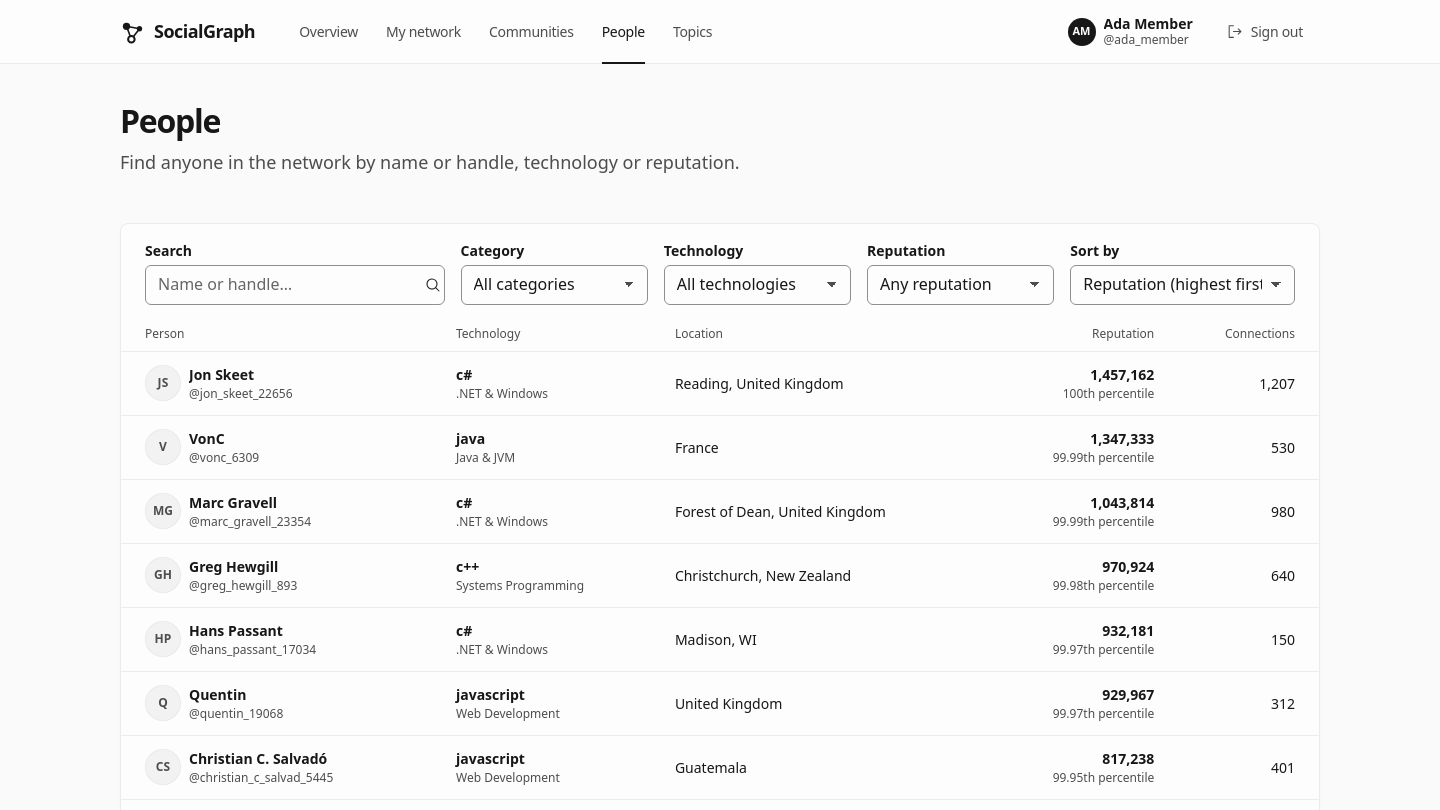
Test: People › suggests clearing filters when nothing matches
Expected: the heading "People" is shown, [120,99,220,142]
Type "zzzz" into the search field labelled "Search".
click(295, 285); type("zzzz")  # box [145,265,445,305]
Then press Enter
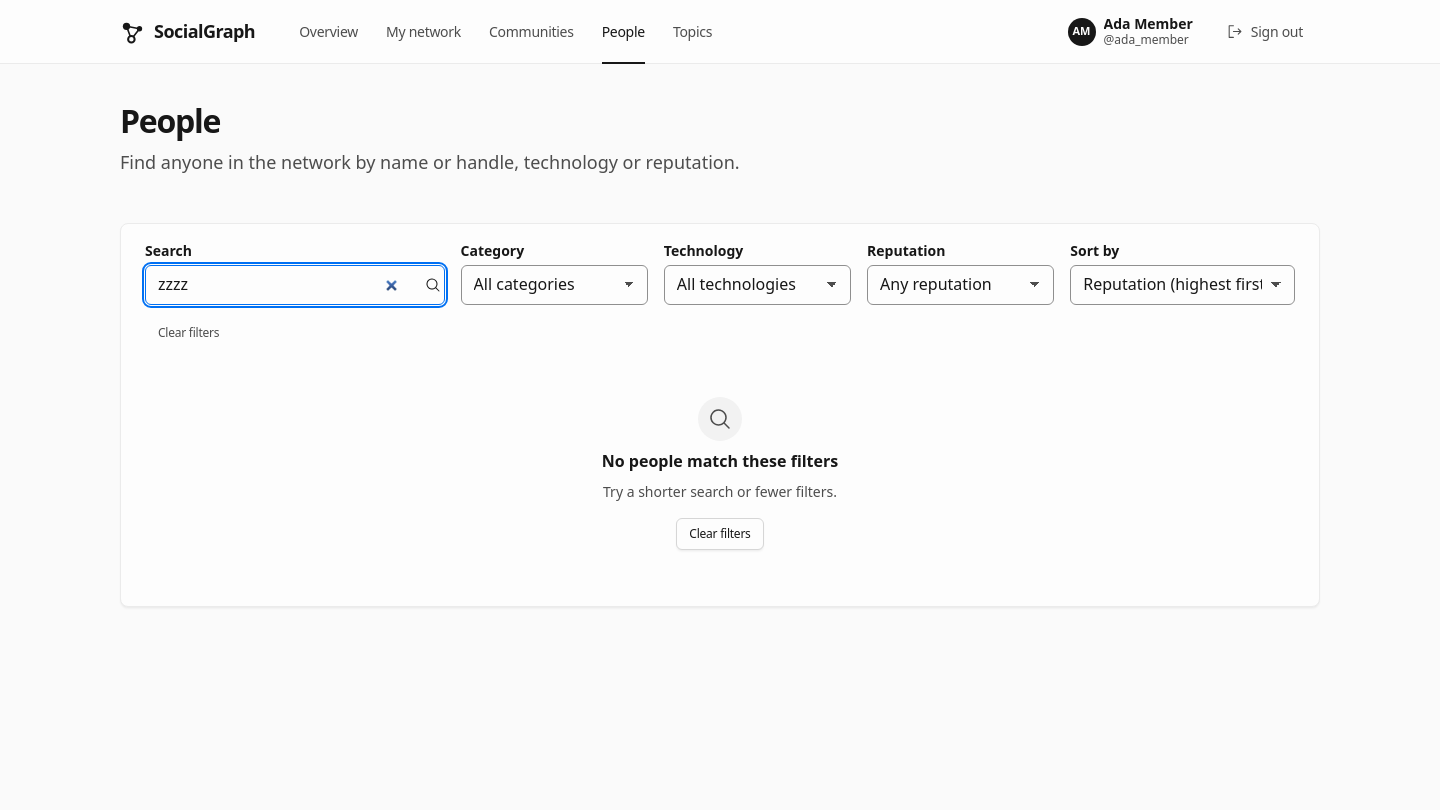
Now the text "No people match these filters" is shown, box [602,449,838,473]
Click the button "Clear filters" below "Try a shorter search or fewer filters.".
click(720, 534)  # box [676,518,764,550]
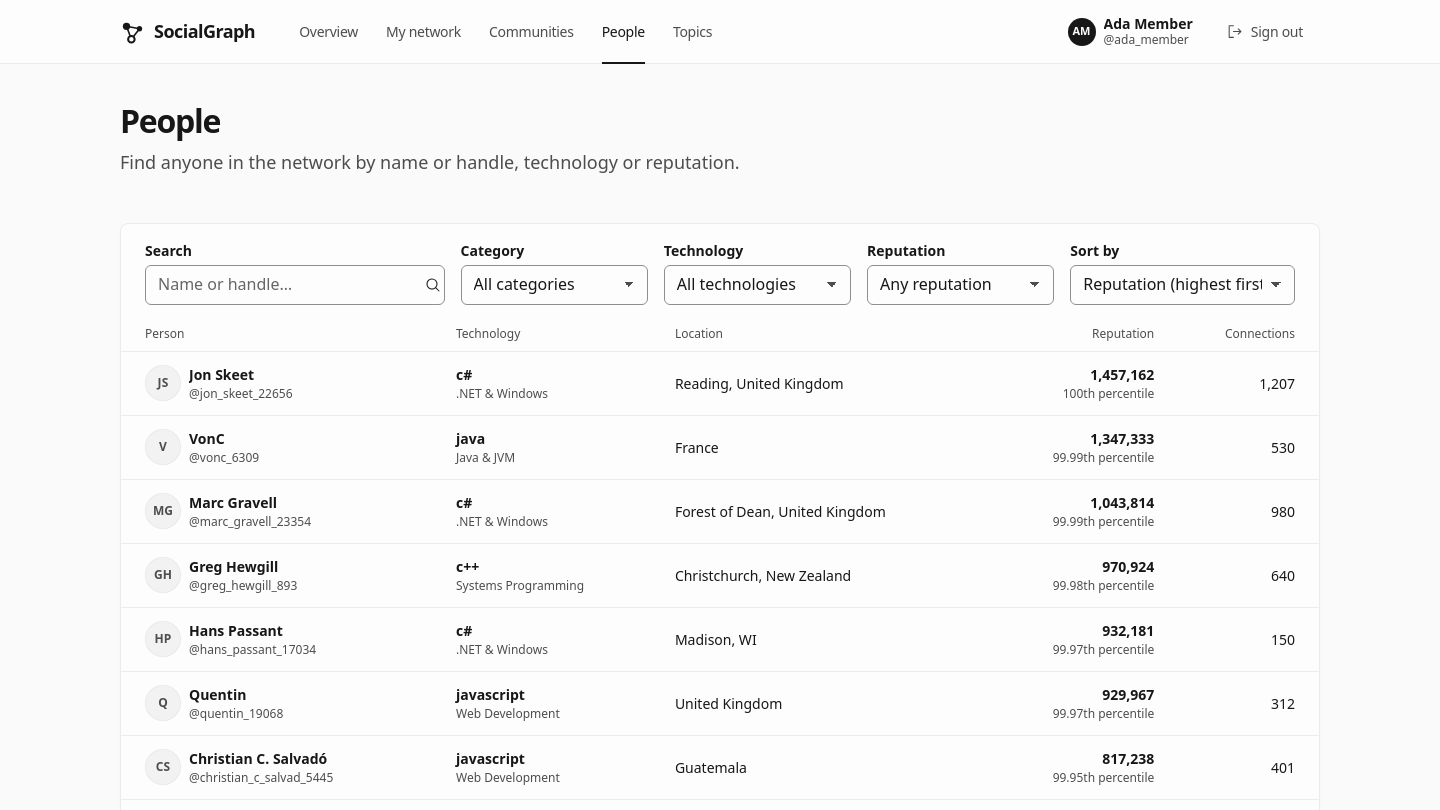
Now the search field labelled "Search" is empty, box [145,265,445,305]
